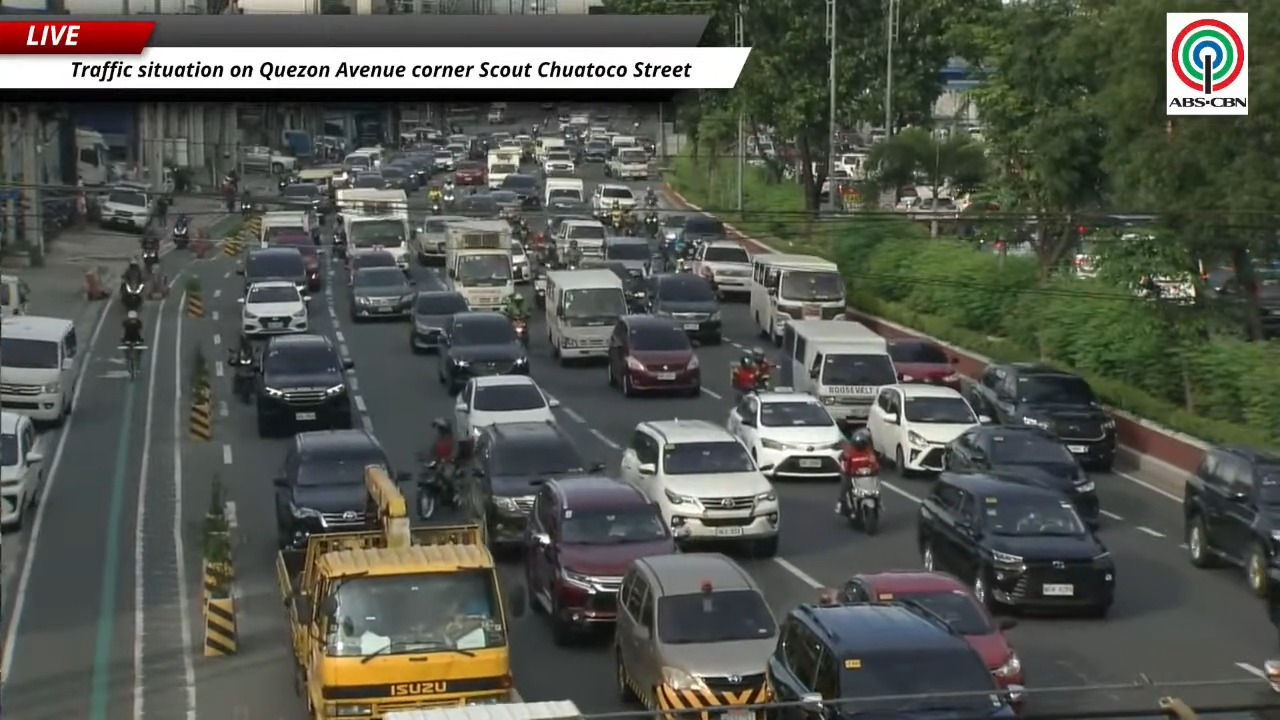car: (768, 601, 1015, 719), (917, 472, 1115, 616), (613, 554, 777, 719), (524, 475, 675, 644), (840, 570, 1024, 690), (620, 419, 779, 556), (459, 421, 603, 549), (966, 363, 1116, 471), (943, 425, 1100, 526), (1183, 447, 1279, 596), (273, 430, 389, 548), (726, 389, 844, 481), (866, 383, 978, 475), (255, 333, 353, 437), (438, 311, 528, 394), (608, 315, 700, 395), (454, 375, 558, 437), (0, 411, 45, 529), (647, 273, 721, 344), (239, 280, 309, 336), (888, 338, 960, 389), (410, 290, 469, 351), (349, 267, 414, 321), (237, 246, 308, 294), (581, 259, 646, 311), (692, 240, 751, 296), (269, 232, 323, 290), (100, 185, 153, 231), (556, 218, 607, 258), (603, 236, 652, 276), (539, 208, 594, 243), (347, 249, 397, 284), (241, 146, 297, 174), (591, 183, 637, 216), (499, 174, 541, 209), (680, 214, 728, 244), (281, 182, 326, 212), (454, 193, 501, 217), (485, 190, 523, 218), (380, 164, 415, 191), (511, 240, 531, 283), (542, 150, 575, 175), (453, 160, 486, 185), (445, 139, 468, 168), (661, 215, 685, 242), (351, 170, 386, 188), (582, 140, 609, 162), (433, 148, 456, 171)
motorcycle: (415, 453, 459, 519), (844, 469, 880, 534), (730, 362, 771, 396), (228, 350, 254, 403), (120, 280, 145, 310), (532, 268, 546, 308), (509, 317, 528, 346), (627, 289, 648, 313), (331, 226, 346, 258), (142, 247, 159, 275), (172, 220, 188, 248), (644, 214, 659, 238), (676, 257, 690, 272), (443, 190, 455, 207), (645, 194, 658, 209), (431, 198, 442, 214)
truck: (276, 465, 525, 719), (335, 188, 412, 271), (445, 220, 514, 310), (384, 700, 583, 719), (414, 215, 467, 265), (75, 127, 113, 187), (606, 146, 650, 179), (487, 148, 520, 189), (281, 129, 314, 163)
